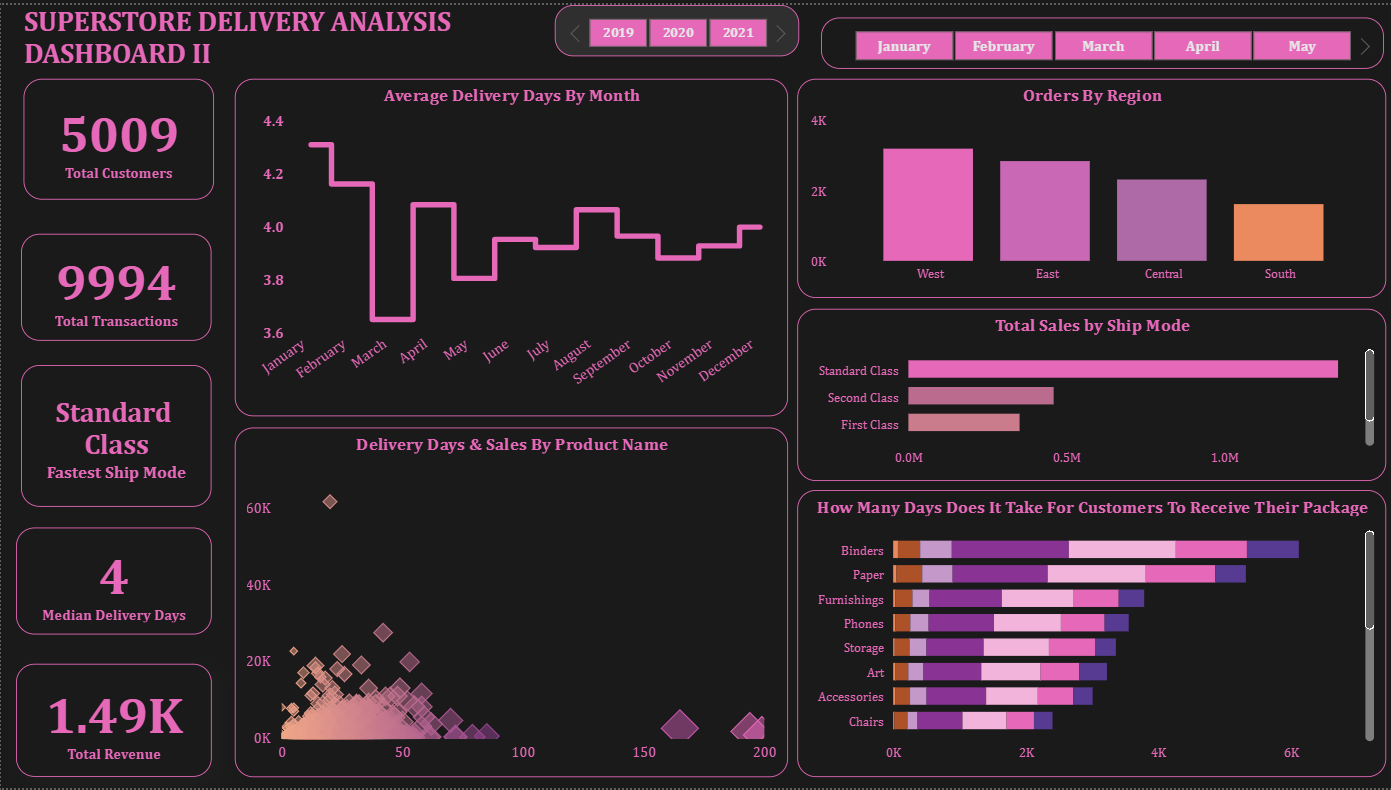

The dashboard page shown, as its layout file describes it:
{"tool":"powerbi","page":{"name":"dashboard3","canvas":[1280,720],"ordinal":2},"visuals":[{"type":"barChart","title":"How Many Days Does It Take For Customers To Receive Their Package","fields":{"Category":["Orders.Sub-Category"],"Y":["Sum(Orders.delivery days)"],"Series":["Orders.delivery days"]},"box":[732.5,446.2,541.2,263.8],"z":0},{"type":"barChart","title":"Total Sales by Ship Mode","fields":{"Category":["Orders.Ship Mode"],"Y":["Sum(Orders.Sales)"]},"box":[732.5,278.8,541.2,158.8],"z":1000},{"type":"scatterChart","title":"Delivery Days & Sales By Product Name","fields":{"X":["Sum(Orders.delivery days)"],"Y":["Sum(Orders.Sales)"],"Category":["Orders.Product Name"],"Size":["CountNonNull(Orders.Product ID)"]},"box":[215,388.8,508.8,321.2],"z":2000},{"type":"lineChart","title":"Average Delivery Days By Month","fields":{"Category":["Orders.Ship Date.Variation.Date Hierarchy.Month"],"Y":["Avg(Orders.delivery days)"]},"box":[215,67.5,508.8,310],"z":3000},{"type":"clusteredColumnChart","title":"Orders By Region","fields":{"Y":["CountNonNull(Orders.Order ID)"],"Category":["Orders.Region"]},"box":[732.5,67.5,541.2,201.2],"z":4000},{"type":"card","fields":{"Values":["Orders.Fastest Ship Mode"]},"box":[18.8,331.2,175,130],"z":5000},{"type":"card","fields":{"Values":["Count(Orders.Order ID)"]},"box":[21.2,67.5,175,111.2],"z":6000},{"type":"card","fields":{"Values":["CountNonNull(Orders.Order ID)"]},"box":[18.8,210,175,98.8],"z":7000},{"type":"card","fields":{"Values":["Median(Orders.delivery days)"]},"box":[13.8,480,180,98.8],"z":8000},{"type":"card","fields":{"Values":["Sum(Orders.Sales)"]},"box":[13.8,606.2,180,103.8],"z":9000},{"type":"slicer","fields":{"Values":["Orders.Ship Date.Variation.Date Hierarchy.Year"]},"box":[508.8,0,225,47.5],"z":10000},{"type":"slicer","fields":{"Values":["Orders.Ship Date.Variation.Date Hierarchy.Month"]},"box":[754,11.3,517.3,47.3],"z":11000},{"type":"textbox","title":"SUPERSTORE DELIVERY ANALYSIS DASHBOARD II","box":[16.2,0,492.5,58.8],"z":12000}]}

Visuals, with their boxes in screenshot pixels (x1, y1, x2, y2), scaled from the page's 1280x720 canvas onto the 1391x790 screenshot:
"How Many Days Does It Take For Customers To Receive Their Package" barChart: bbox=(796, 490, 1384, 779)
"Total Sales by Ship Mode" barChart: bbox=(796, 306, 1384, 480)
"Delivery Days & Sales By Product Name" scatterChart: bbox=(234, 427, 787, 779)
"Average Delivery Days By Month" lineChart: bbox=(234, 74, 787, 414)
"Orders By Region" clusteredColumnChart: bbox=(796, 74, 1384, 295)
card - Orders.Fastest Ship Mode: bbox=(20, 363, 211, 506)
card - Count(Orders.Order ID): bbox=(23, 74, 213, 196)
card - CountNonNull(Orders.Order ID): bbox=(20, 230, 211, 339)
card - Median(Orders.delivery days): bbox=(15, 527, 211, 635)
card - Sum(Orders.Sales): bbox=(15, 665, 211, 779)
slicer - Orders.Ship Date.Variation.Date Hierarchy.Year: bbox=(553, 0, 797, 52)
slicer - Orders.Ship Date.Variation.Date Hierarchy.Month: bbox=(819, 12, 1382, 64)
"SUPERSTORE DELIVERY ANALYSIS DASHBOARD II" textbox: bbox=(18, 0, 553, 65)
